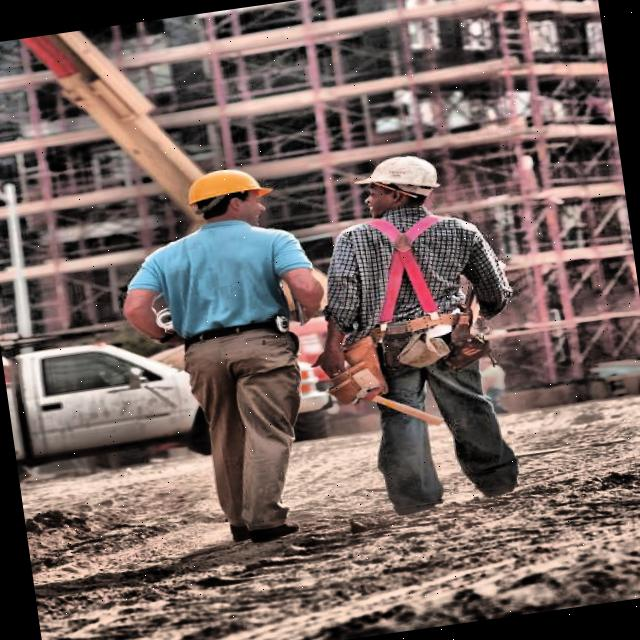helmet: (346, 140, 462, 222), (175, 157, 283, 235)
